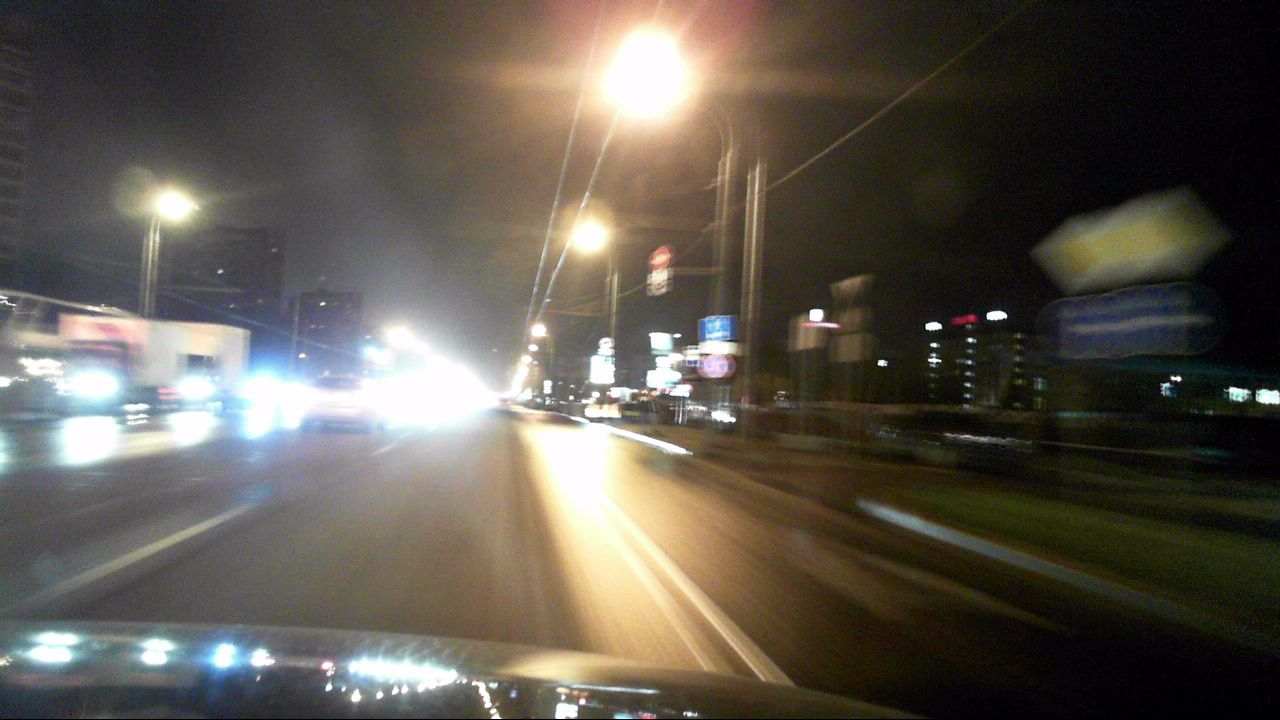No Parking: (704, 355, 728, 377)
